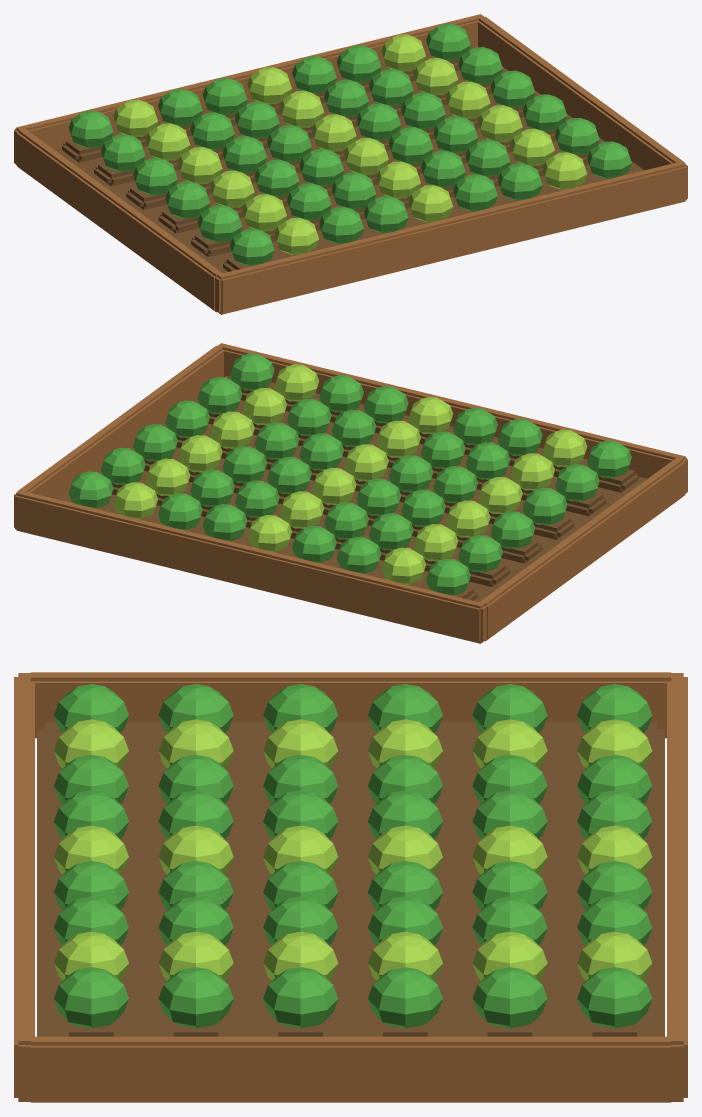
The model's file is field_veg.glb.
The picture shows the model from 3 angles, top to bottom: view 1: azimuth 30°, elevation 25°; view 2: azimuth 150°, elevation 25°; view 3: azimuth 270°, elevation 25°; orthographic projection. The views are drawn at different scales.
Visible parts, largest first — view 1: field_veg; view 2: field_veg; view 3: field_veg.
Boxes of the visible parts, left/top/right/bottom form: field_veg: left=14, top=14, right=687, bottom=314; field_veg: left=14, top=343, right=687, bottom=643; field_veg: left=14, top=672, right=687, bottom=1102.
Bounding box in the file's own units: 2.11 × 0.232 × 1.61.
